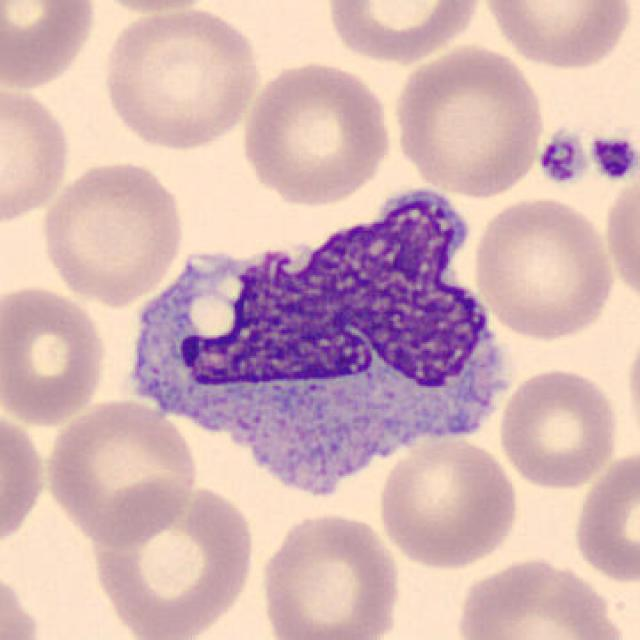Monocyte: (103, 192, 523, 517)
Platelets: (535, 129, 590, 187), (588, 130, 636, 183)
RBC: (85, 482, 258, 638), (390, 41, 550, 201), (96, 3, 263, 154), (236, 56, 396, 208), (39, 396, 201, 546), (38, 155, 188, 305), (469, 194, 617, 342), (375, 432, 523, 571), (256, 508, 405, 640), (496, 363, 622, 492), (0, 281, 110, 428), (449, 553, 631, 640), (476, 0, 636, 72), (0, 81, 75, 226), (320, 0, 487, 65), (569, 444, 638, 587), (0, 0, 101, 91), (0, 406, 48, 556), (601, 169, 640, 307), (0, 566, 46, 638), (624, 319, 640, 455), (78, 0, 230, 14)
